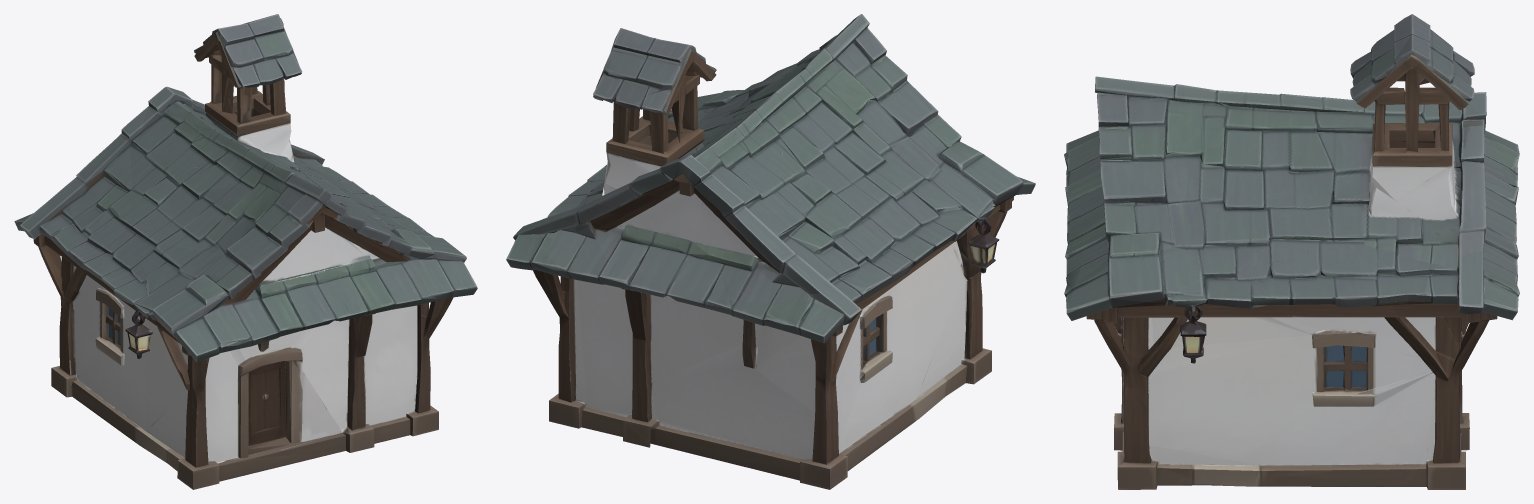
File: chapel.glb
3 views of the same model, side by side, from view 1: azimuth 30°, elevation 25°; view 2: azimuth 150°, elevation 25°; view 3: azimuth 270°, elevation 25° (orthographic). The views are drawn at different scales.
Parts seen in each view (by area): view 1: chapel; view 2: chapel; view 3: chapel.
Boxes of the visible parts, x1=… form: chapel: x1=14, y1=14, x2=477, y2=489; chapel: x1=506, y1=14, x2=1035, y2=489; chapel: x1=1064, y1=14, x2=1519, y2=489.
Bounding box in the file's own units: 7.68 × 8 × 7.95.
Materials: 1 (1 with a texture image).
